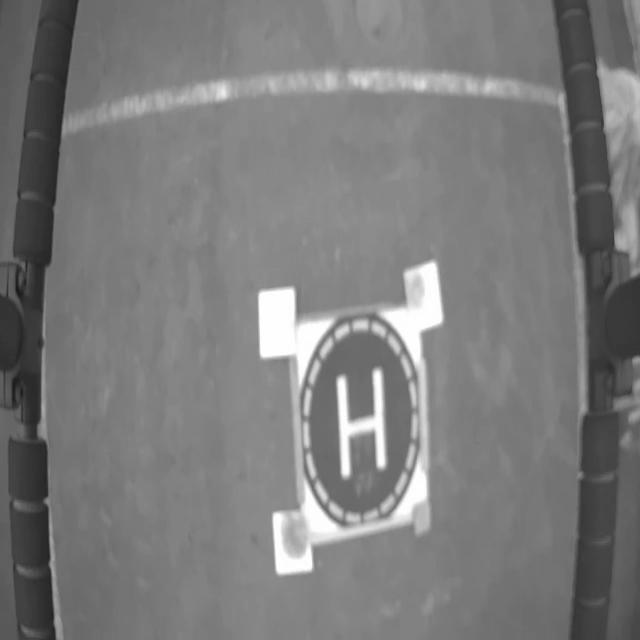Helipad: (335, 363, 387, 481)
